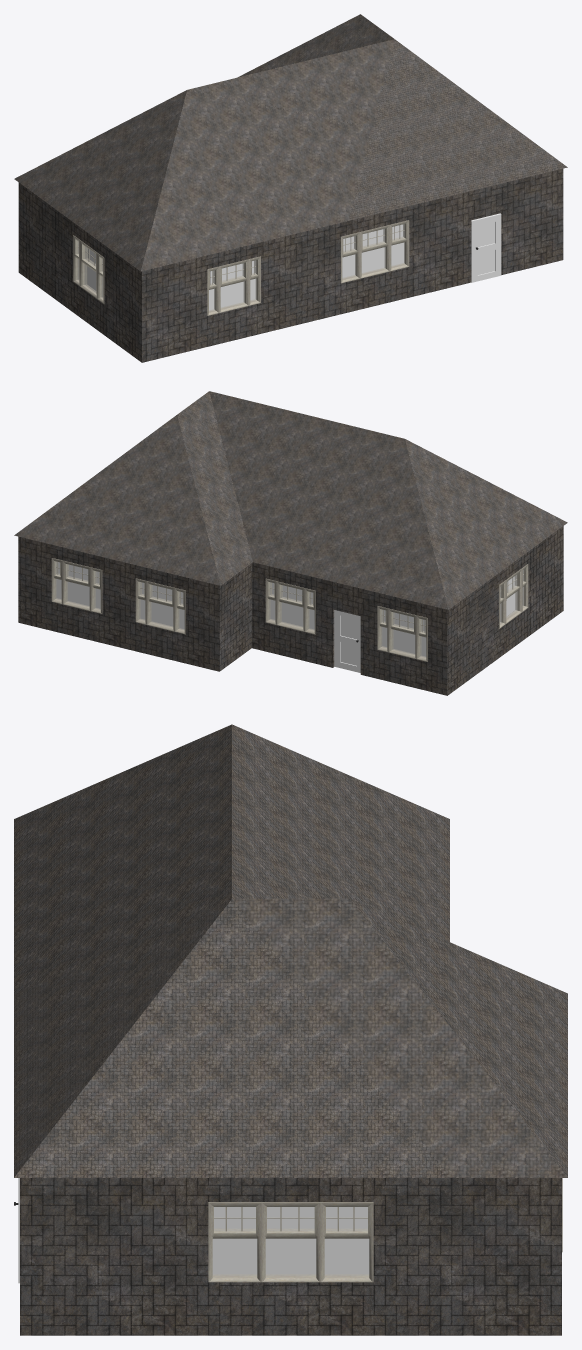
The model's file is RandomHouseOutside01.fbx.
3 views of the same model, one above another, from view 1: azimuth 30°, elevation 25°; view 2: azimuth 150°, elevation 25°; view 3: azimuth 270°, elevation 25° (orthographic). The views are drawn at different scales.
Parts seen in each view (by area): view 1: Slanted Roof, Outside Plain Wall (Floor 1), FancyWindow_stretched (×7), BuildingFiller, generic_door; view 2: Slanted Roof, Outside Plain Wall (Floor 1), FancyWindow_stretched (×13), BuildingFiller, generic_door; view 3: Slanted Roof, Outside Plain Wall (Floor 1), FancyWindow_stretched (×3), BuildingFiller.
Part boxes in pixels (x1,y1,x2,y2): Slanted Roof: (14,14,567,271); Outside Plain Wall (Floor 1): (18,168,563,362); FancyWindow_stretched (×7): (80,220,409,315); BuildingFiller: (87,224,403,310); generic_door: (471,213,501,282); Slanted Roof: (14,391,567,609); Outside Plain Wall (Floor 1): (18,526,563,695); FancyWindow_stretched (×13): (51,558,521,661); BuildingFiller: (56,562,515,656); generic_door: (334,610,360,672); Slanted Roof: (14,724,567,1177); Outside Plain Wall (Floor 1): (20,1178,561,1335); FancyWindow_stretched (×3): (208,1202,373,1282); BuildingFiller: (212,1207,369,1274).
Bounding box in the file's own units: 14.4 × 6.5 × 9.4.
